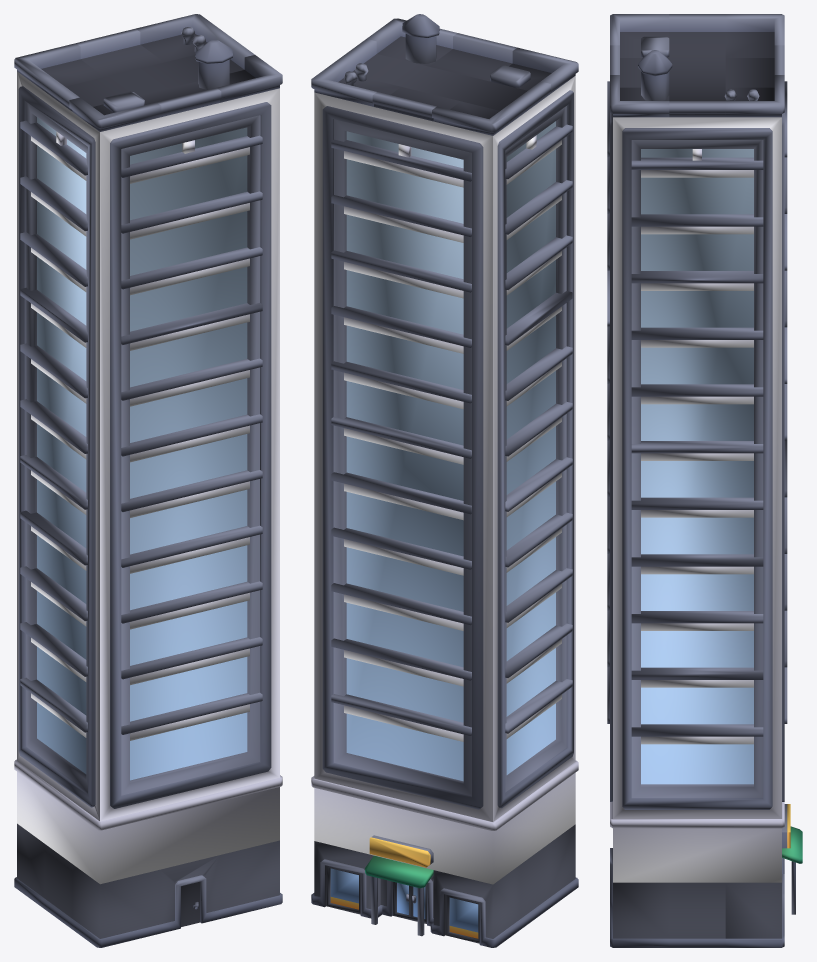
The model's file is building-skyscraper-d_lev1.glb.
The picture shows the model from 3 angles, left to right: view 1: azimuth 30°, elevation 25°; view 2: azimuth 150°, elevation 25°; view 3: azimuth 270°, elevation 25°; orthographic projection. The views are drawn at different scales.
Visible parts, largest first — view 1: building-skyscraper-d_lev1; view 2: building-skyscraper-d_lev1; view 3: building-skyscraper-d_lev1.
Boxes of the visible parts, x1,y1,x2,y2 form: building-skyscraper-d_lev1: (14,14,282,947); building-skyscraper-d_lev1: (311,14,578,947); building-skyscraper-d_lev1: (607,14,802,947).
Bounding box in the file's own units: 6.4 × 27.35 × 5.55.
Materials: 1 (1 with a texture image).
